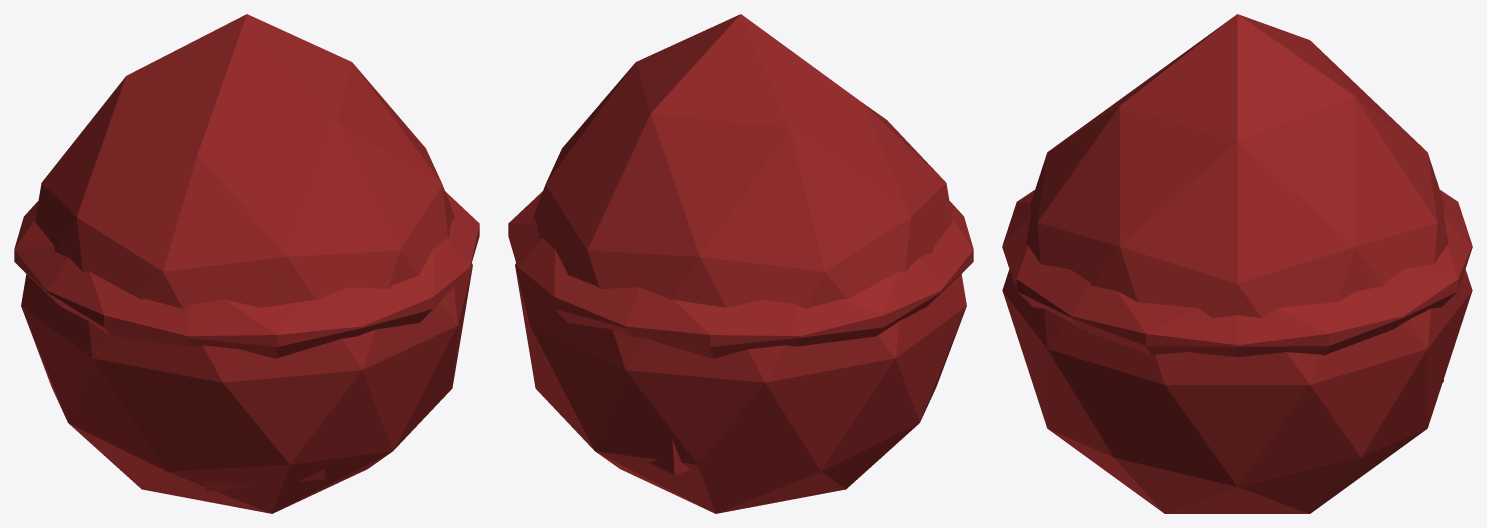
Rendered from diamonds.fbx.
The picture shows the model from 3 angles, left to right: view 1: azimuth 30°, elevation 25°; view 2: azimuth 150°, elevation 25°; view 3: azimuth 270°, elevation 25°; orthographic projection.
Parts seen in each view (by area): view 1: Diamond 3, Diamond 2, Diamond 1; view 2: Diamond 3, Diamond 2, Diamond 1, Diamond 4; view 3: Diamond 2, Diamond 3, Diamond 1.
Part boxes in pixels (x1,y1,x2,y2): Diamond 3: (21,154,472,513); Diamond 2: (33,14,442,406); Diamond 1: (14,191,479,358); Diamond 3: (515,102,966,513); Diamond 2: (545,14,910,353); Diamond 1: (508,191,973,358); Diamond 4: (649,439,690,474); Diamond 2: (1037,14,1437,486); Diamond 3: (1002,154,1472,513); Diamond 1: (1002,190,1472,357).
Bounding box in the file's own units: 11.51 × 13.22 × 11.51.
